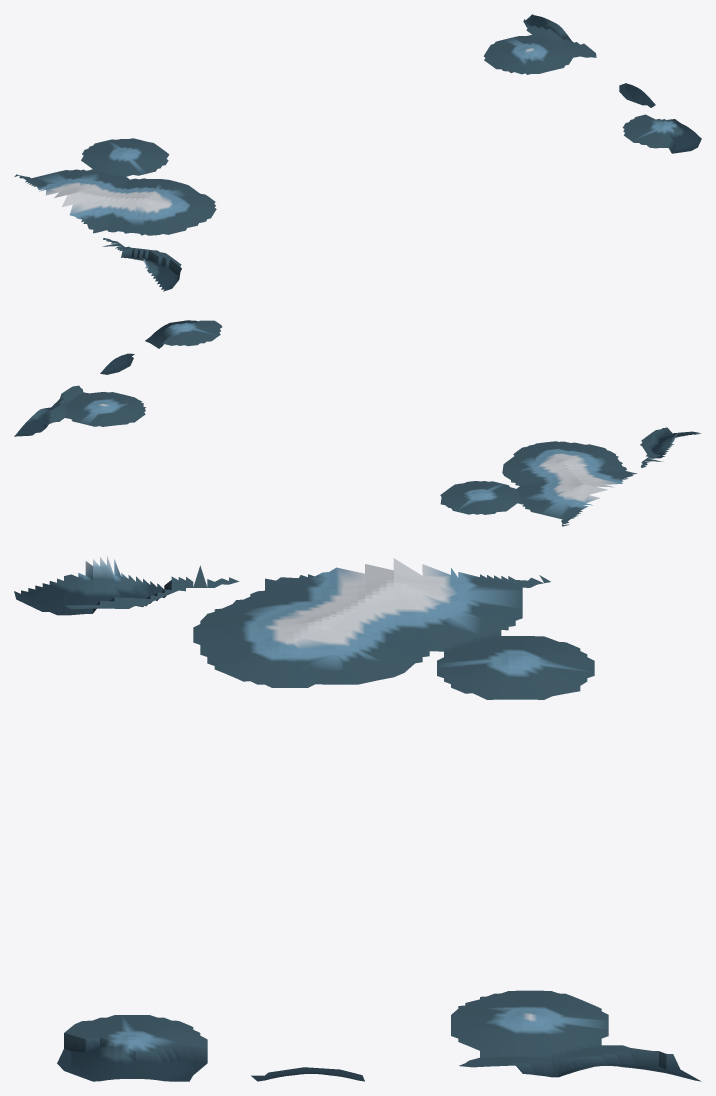
Rendered from frost_tile_x3z1.glb.
3 views of the same model, one above another, from view 1: azimuth 30°, elevation 25°; view 2: azimuth 150°, elevation 25°; view 3: azimuth 270°, elevation 25° (orthographic). The views are drawn at different scales.
Visible parts, largest first — view 1: geometry_0; view 2: geometry_0; view 3: geometry_0.
Part boxes in pixels (x1,y1,x2,y2): geometry_0: (14,14,701,291); geometry_0: (14,320,700,526); geometry_0: (14,555,701,1081).
Bounding box in the file's own units: 990 × 32.87 × 576.
